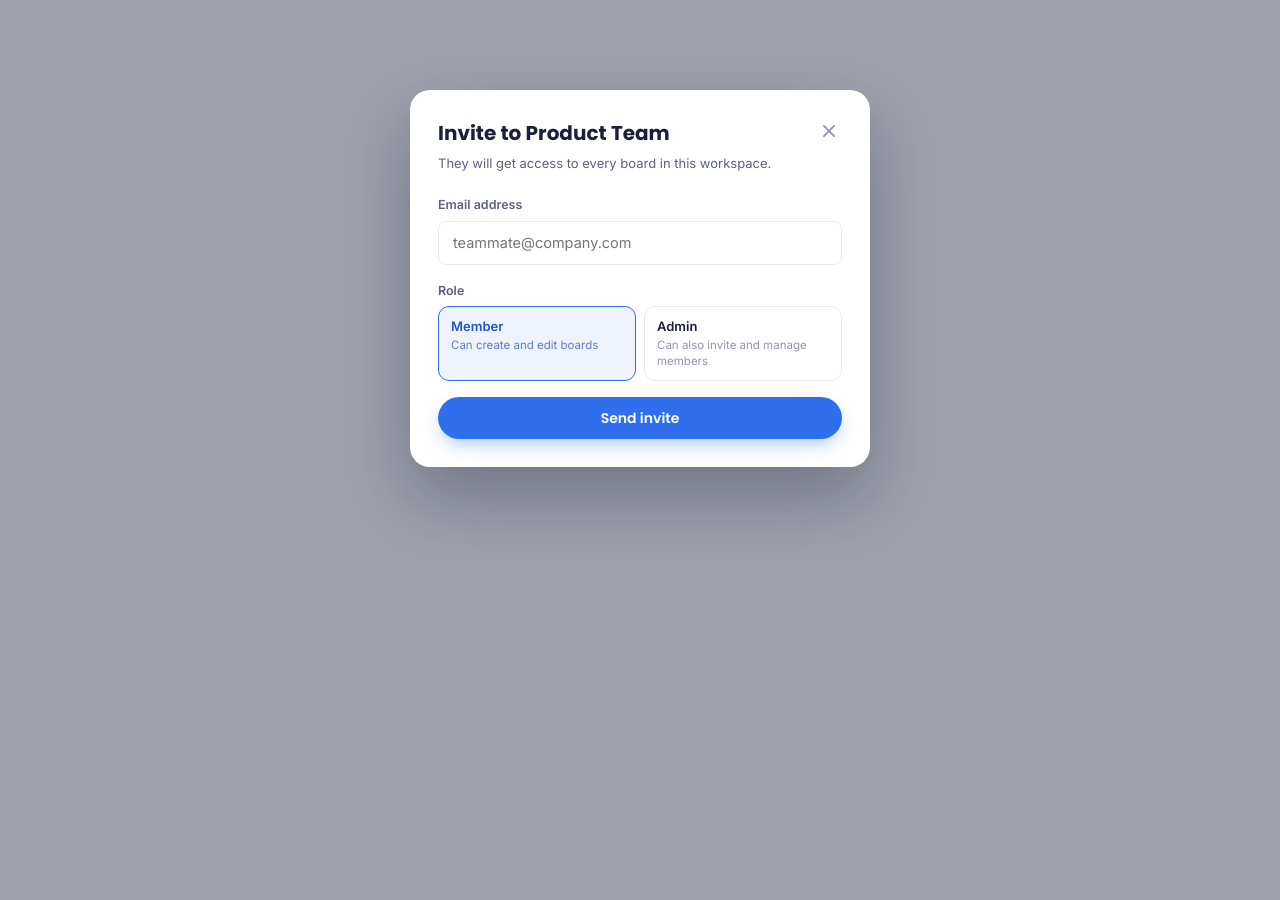
Test: InviteModal › shows the shareable accept link after a successful invite
Step 1. Type "new@example.com" into the field labelled "Email address" → (640, 242), box [438, 220, 842, 264]
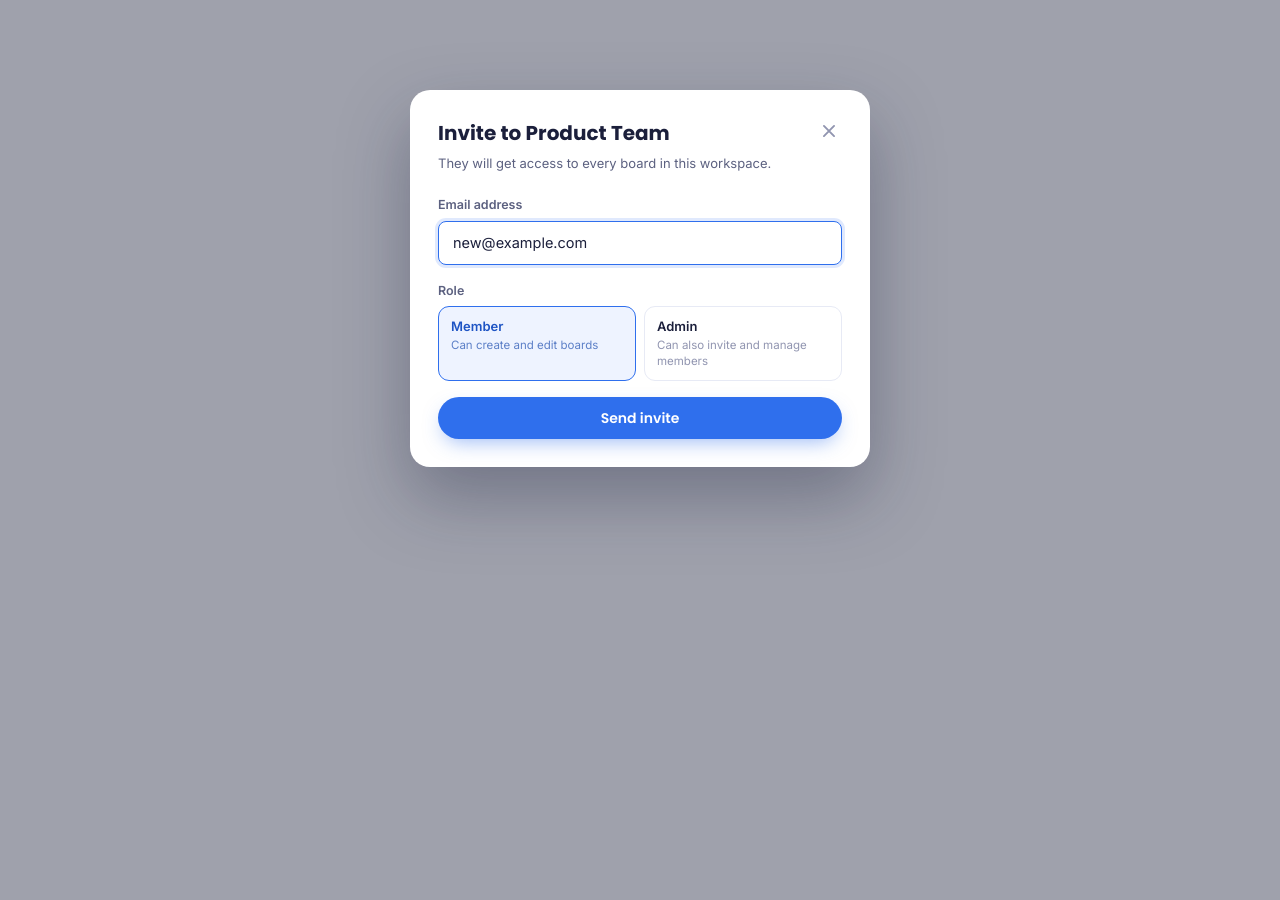
Step 2. Click the button "Send invite" → (640, 418), box [438, 397, 842, 439]
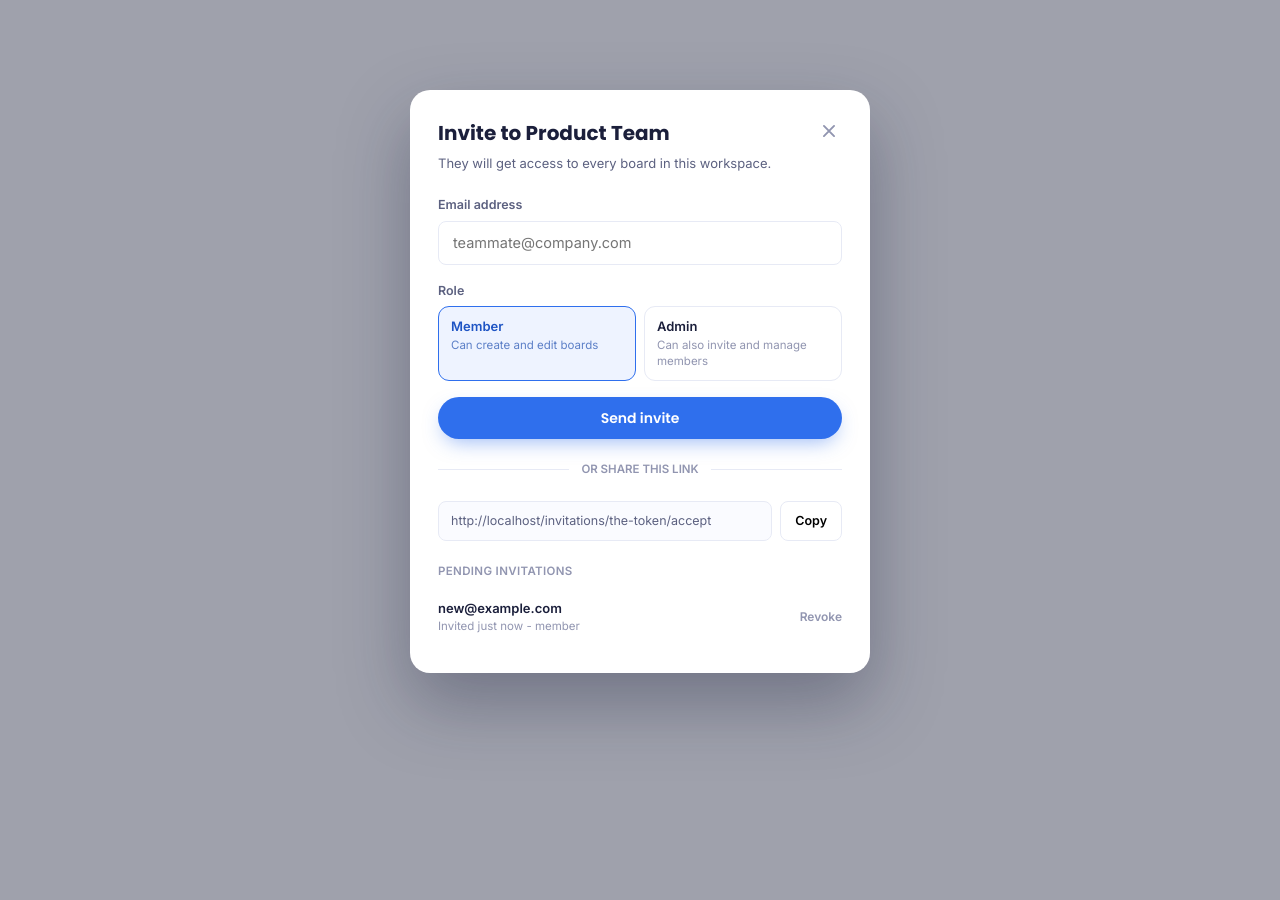
expect the text "http://localhost/invitations/the-token/accept" is shown: met, box [438, 501, 772, 541]
